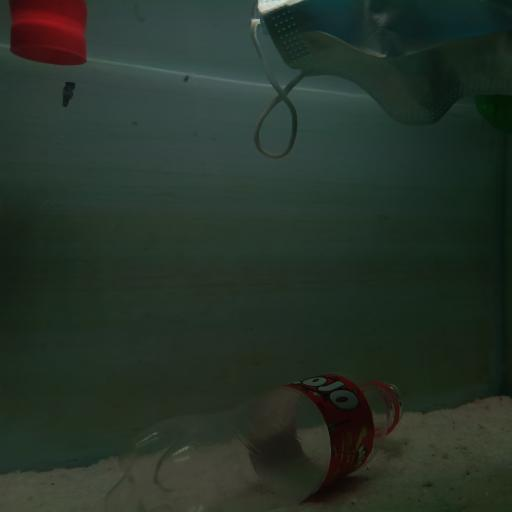bottle_cap: (9, 18, 91, 69)
mask: (251, 0, 512, 168)
plastic_bottle: (103, 370, 407, 512)
